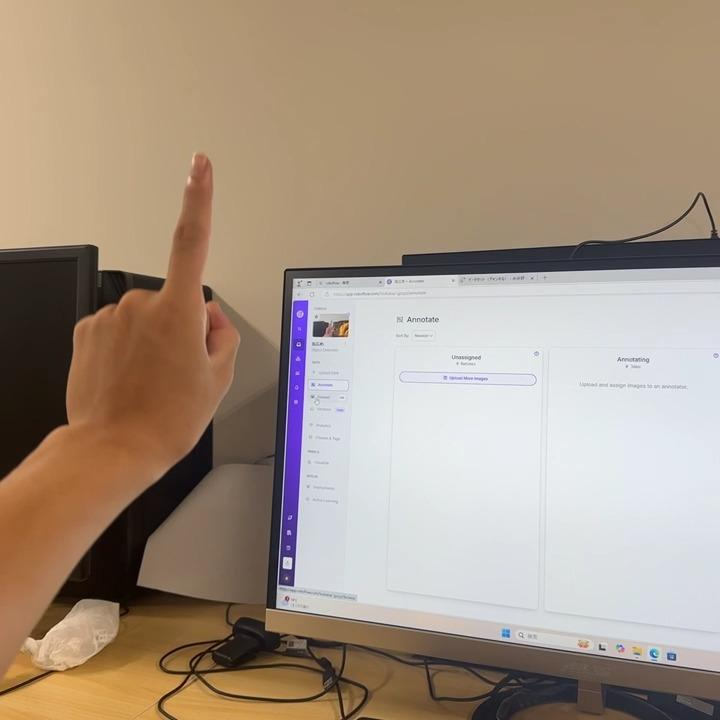without_gloves: (3, 19, 336, 511)
